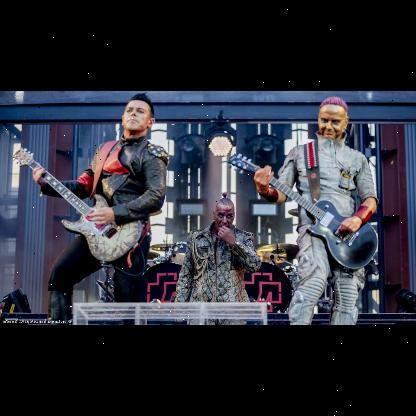guitar: (226, 151, 378, 271), (11, 148, 145, 264)
